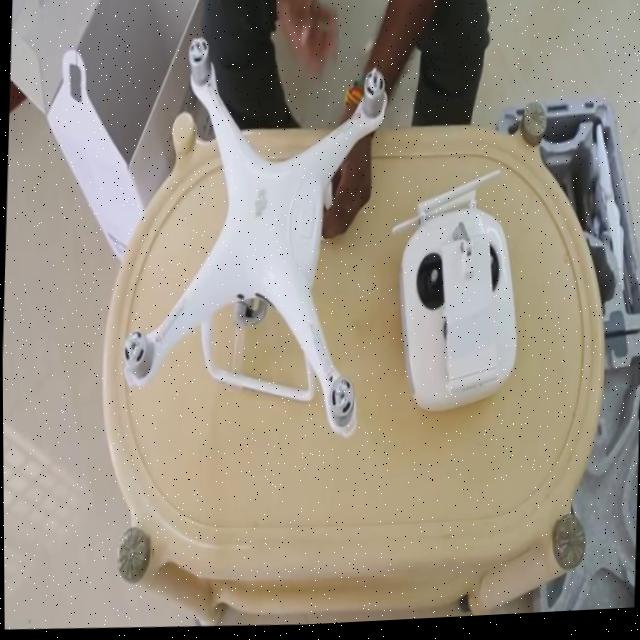drones: (106, 7, 404, 449)
